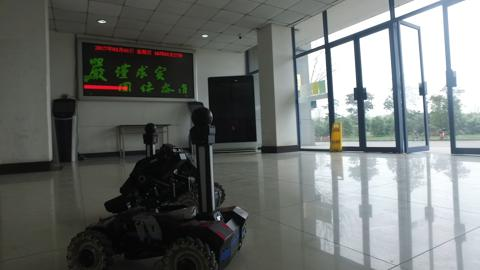chariot: (64, 101, 252, 270)
